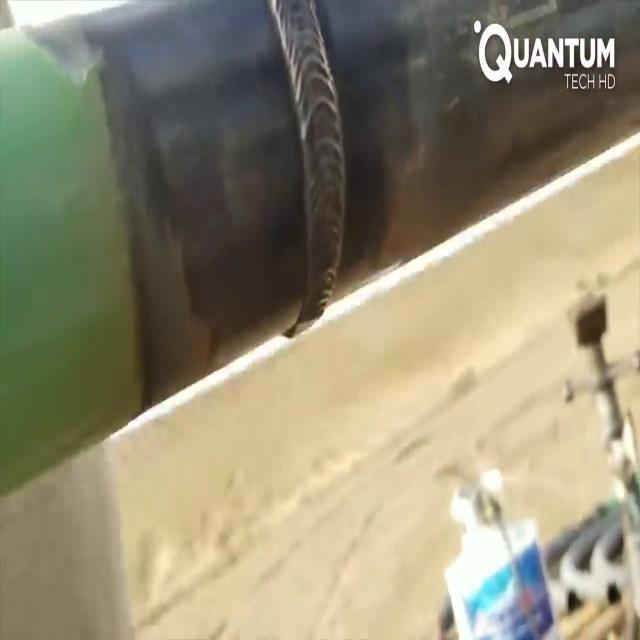Good Weld: (270, 7, 350, 297)
